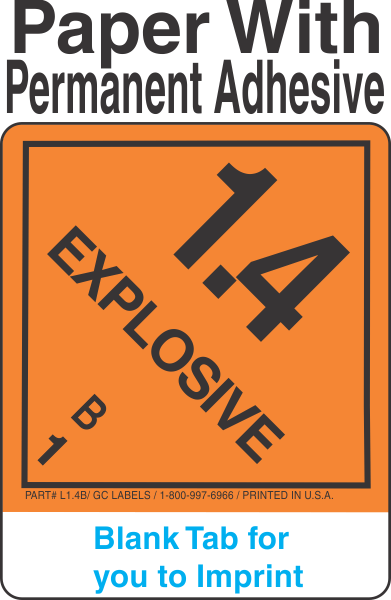Explosive: (12, 129, 387, 497)
